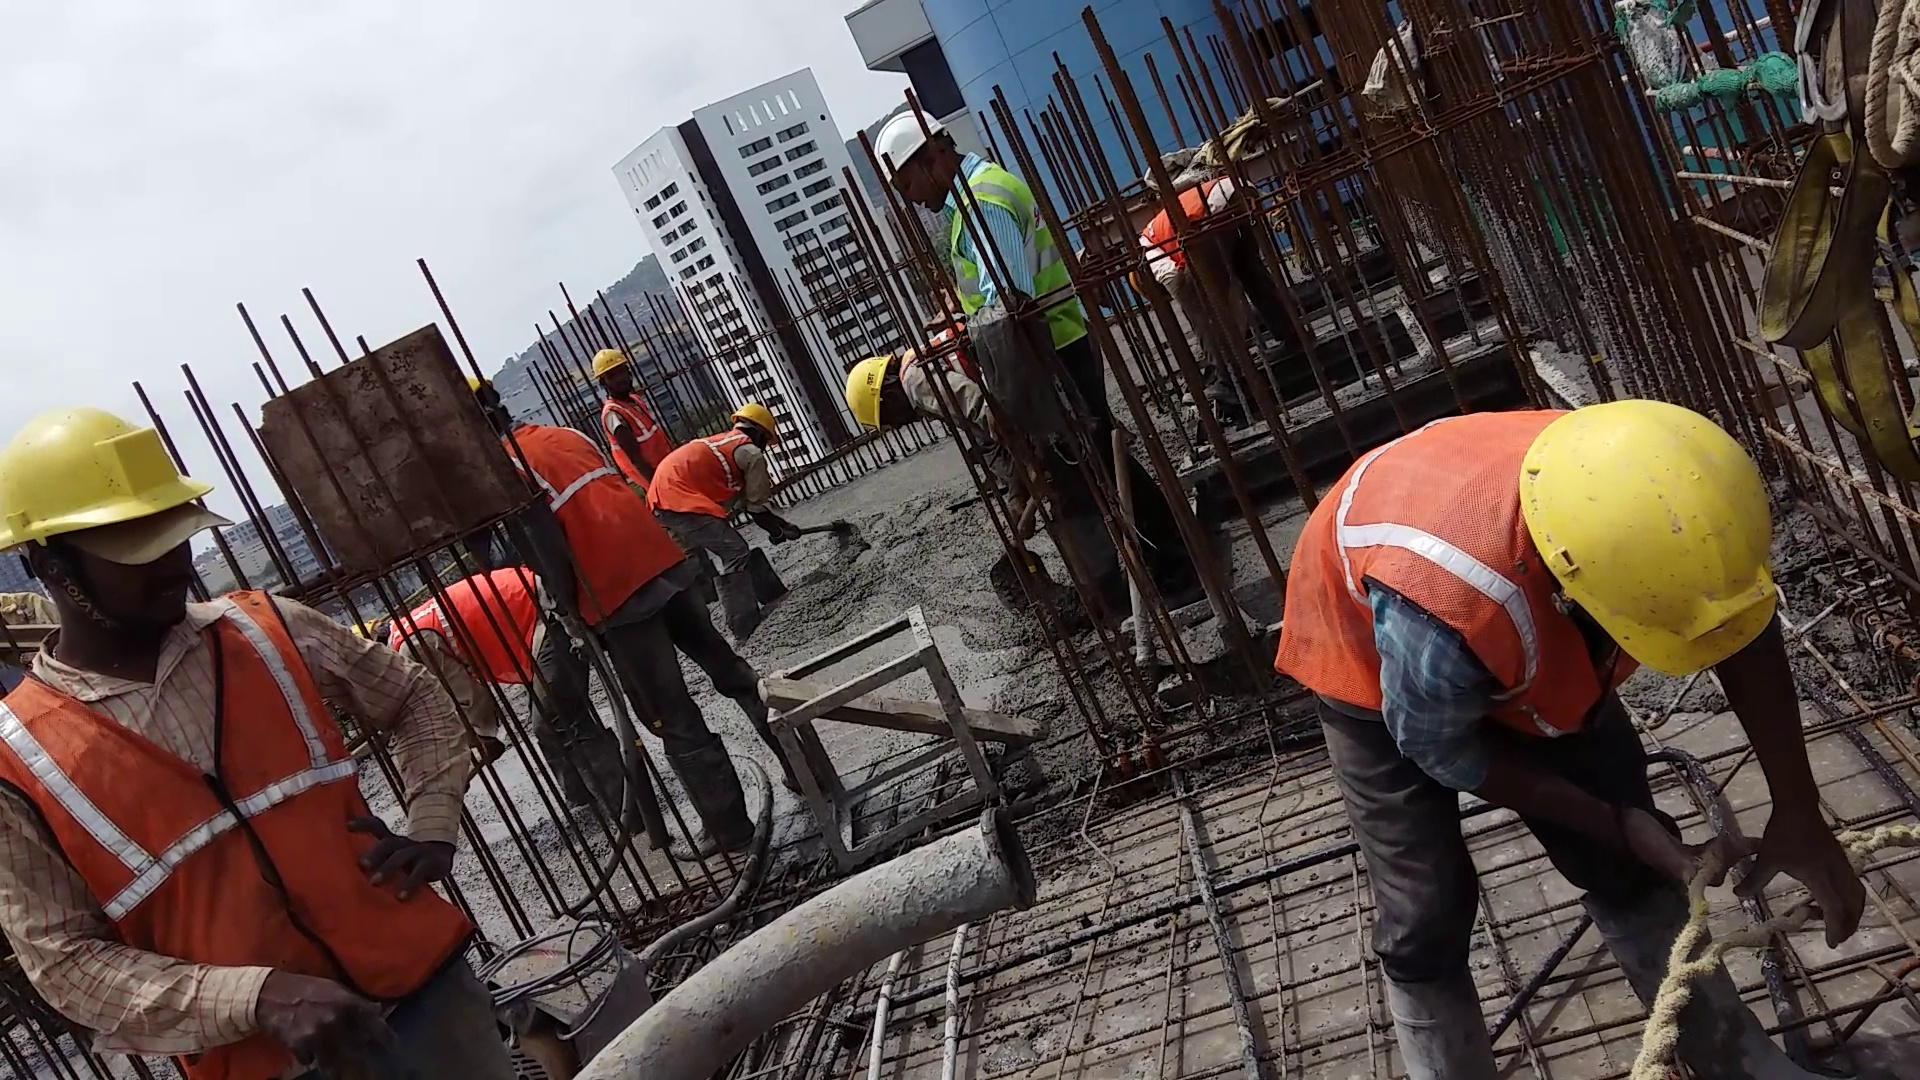SAFE: (5, 409, 298, 1069), (1279, 392, 1785, 728), (646, 405, 786, 512), (595, 351, 649, 488)
